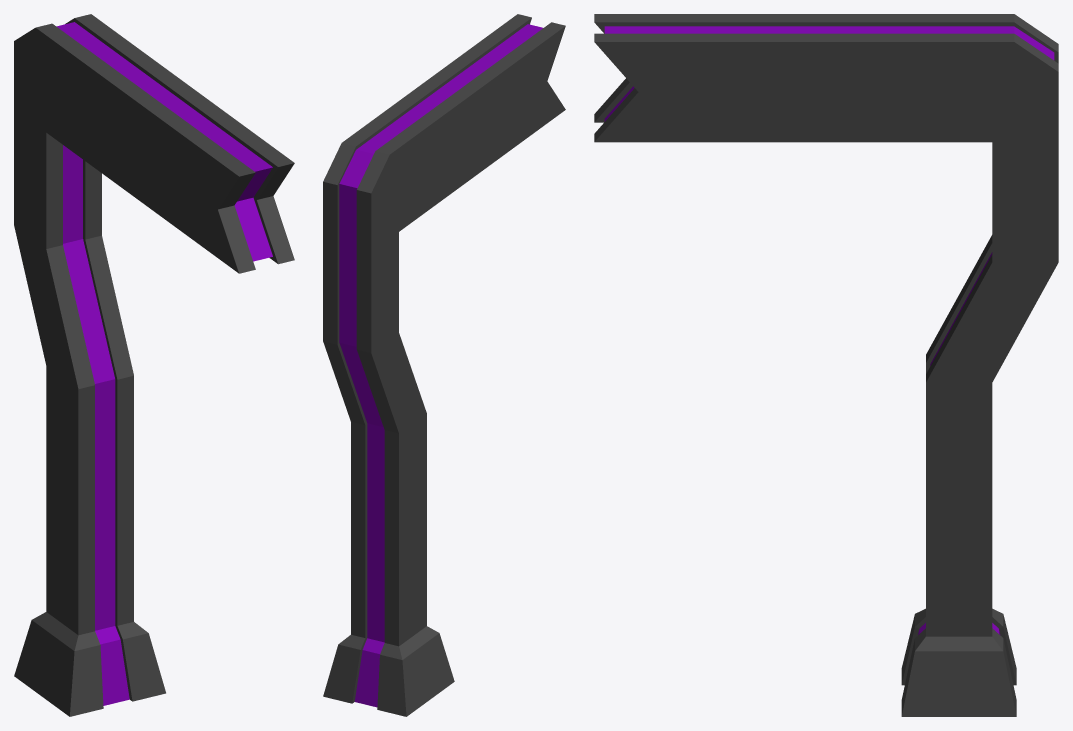
Rendered from KF_Rail_Support.fbx.
The picture shows the model from 3 angles, left to right: view 1: azimuth 30°, elevation 25°; view 2: azimuth 150°, elevation 25°; view 3: azimuth 270°, elevation 25°; orthographic projection. The views are drawn at different scales.
Parts seen in each view (by area): view 1: KF_Rail_Support; view 2: KF_Rail_Support; view 3: KF_Rail_Support.
Boxes of the visible parts, box(x1,y1,x2,y2) form: KF_Rail_Support: box(14, 14, 294, 716); KF_Rail_Support: box(323, 14, 565, 716); KF_Rail_Support: box(594, 14, 1058, 716).
Bounding box in the file's own units: 468 × 2985 × 1890.
